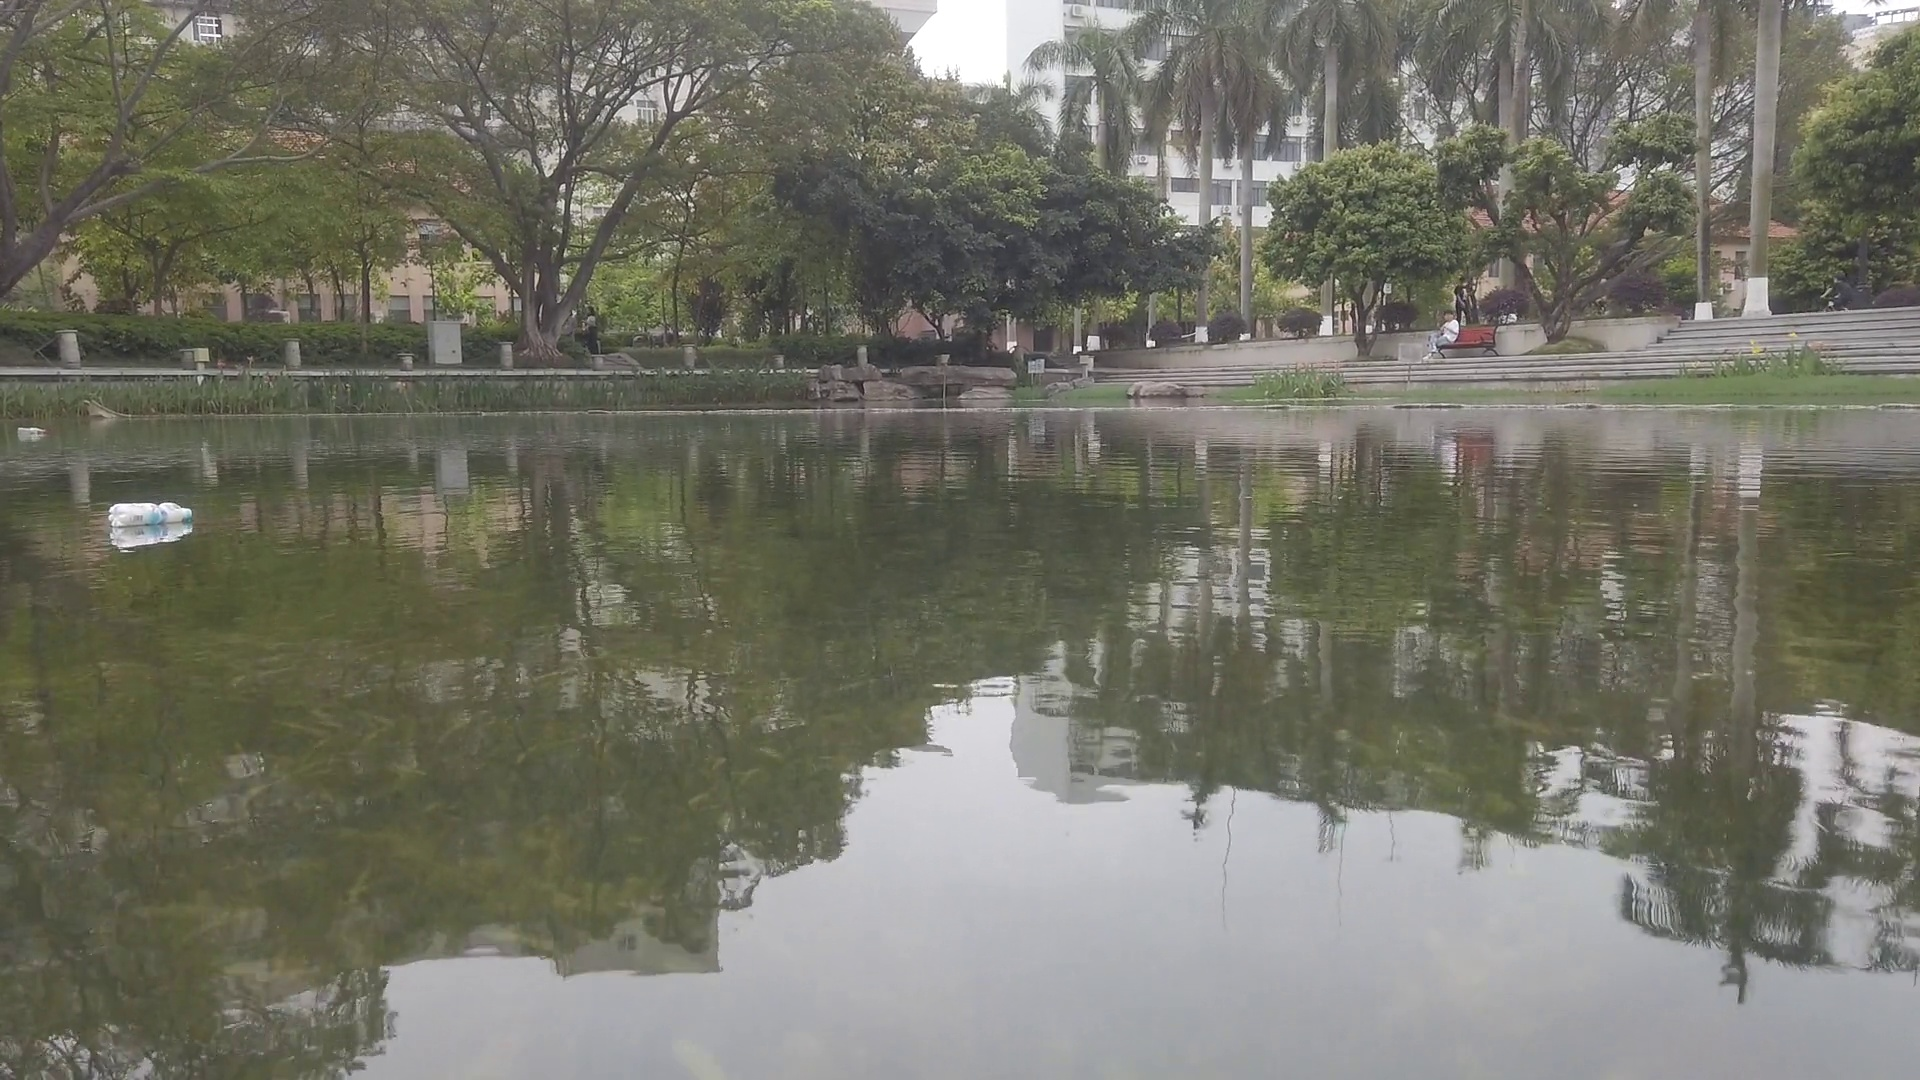bottle: (107, 501, 195, 526), (15, 425, 44, 436)
